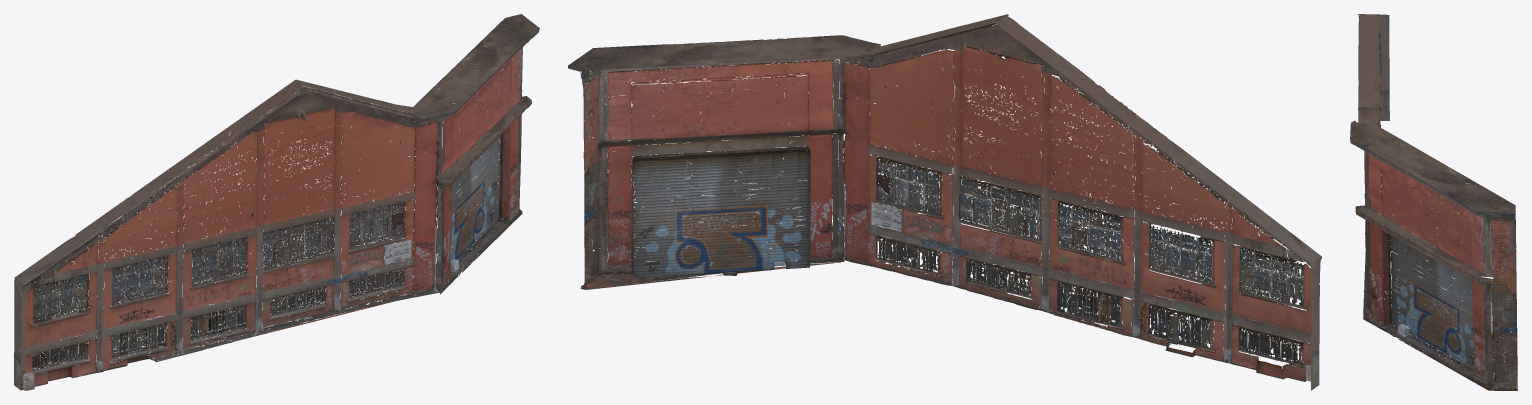
Rendered from scan_galpao.glb.
3 renders of one model, left to right at view 1: azimuth 30°, elevation 25°; view 2: azimuth 150°, elevation 25°; view 3: azimuth 270°, elevation 25°, orthographic. The views are drawn at different scales.
Visible parts, largest first — view 1: batiment23_LowPoly.001; view 2: batiment23_LowPoly.001; view 3: batiment23_LowPoly.001.
Boxes of the visible parts, left/top/right/bottom form: batiment23_LowPoly.001: left=14, top=14, right=539, bottom=390; batiment23_LowPoly.001: left=568, top=14, right=1321, bottom=390; batiment23_LowPoly.001: left=1350, top=14, right=1517, bottom=390.
Size of the model in its own units: 30.07 by 12.3 by 7.77.
10 materials, 10 textured.
